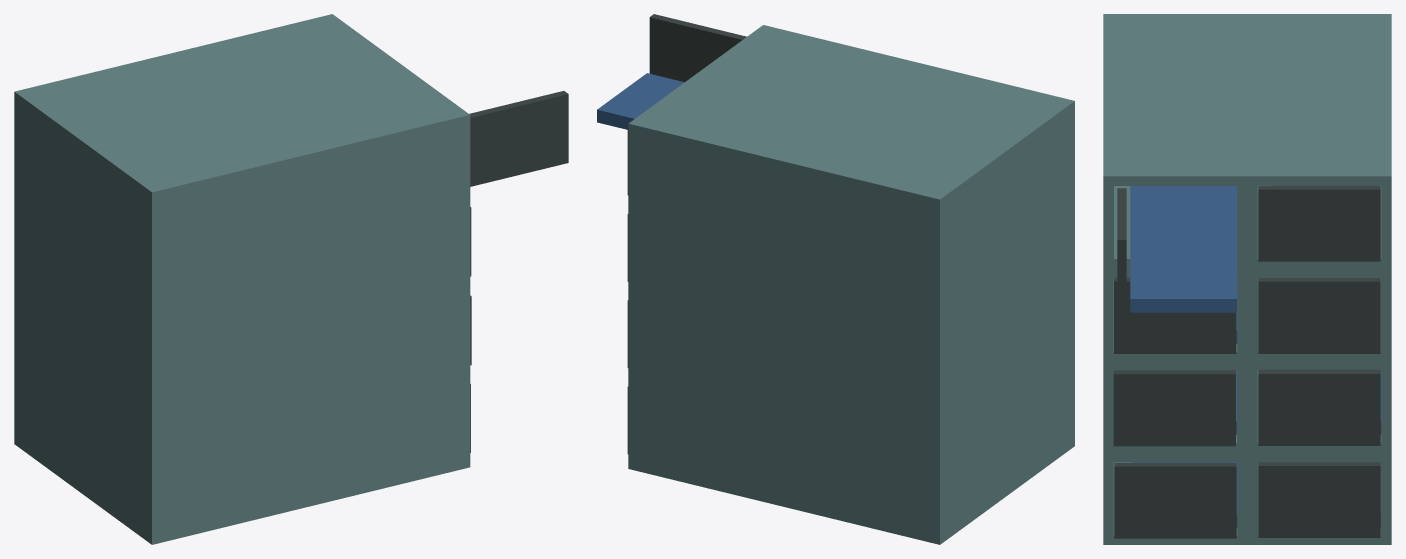
The model's file is Morgue Cabinet.fbx.
3 views of the same model, side by side, from view 1: azimuth 30°, elevation 25°; view 2: azimuth 150°, elevation 25°; view 3: azimuth 270°, elevation 25° (orthographic). The views are drawn at different scales.
Parts seen in each view (by area): view 1: Body, Door; view 2: Body, Door, SlidingPart; view 3: Body, SlidingPart, Door1, Door.001, Door.005, Door.004, Door.002, Door.006, Door.003, Door.
Boxes of the visible parts, left/top/right/bottom form: Body: left=14, top=14, right=470, bottom=544; Door: left=469, top=91, right=568, bottom=186; Body: left=628, top=25, right=1074, bottom=544; Door: left=649, top=14, right=746, bottom=82; SlidingPart: left=597, top=73, right=684, bottom=129; Body: left=1103, top=14, right=1391, bottom=544; SlidingPart: left=1130, top=186, right=1236, bottom=312; Door1: left=1114, top=462, right=1236, bottom=538; Door.001: left=1258, top=185, right=1380, bottom=261; Door.005: left=1258, top=369, right=1380, bottom=445; Door.004: left=1113, top=370, right=1235, bottom=446; Door.002: left=1258, top=278, right=1380, bottom=353; Door.006: left=1258, top=462, right=1380, bottom=537; Door.003: left=1114, top=277, right=1236, bottom=353; Door: left=1117, top=188, right=1126, bottom=311.
Size of the model in its own units: 828 by 658 by 466.
